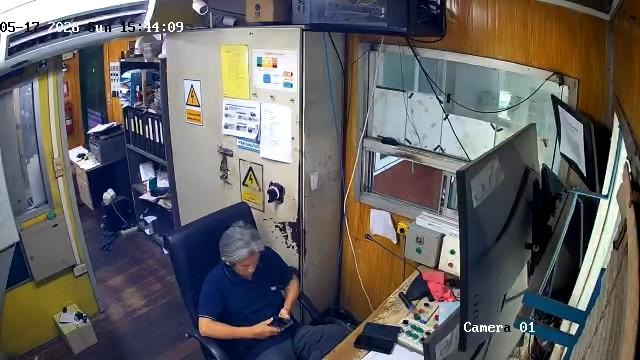Head: (220, 220, 264, 275)
People: (196, 220, 342, 360)
Phone: (266, 316, 294, 331)
